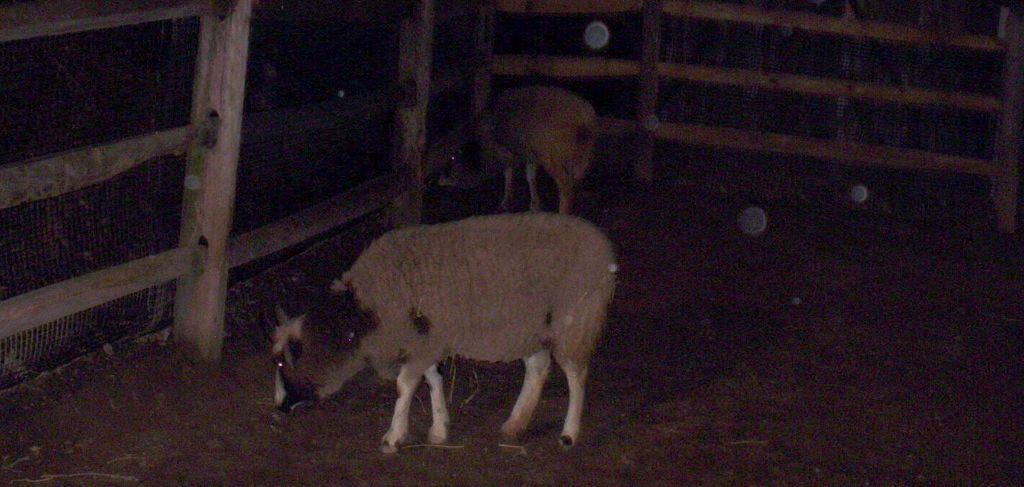sheep: (290, 205, 604, 459)
